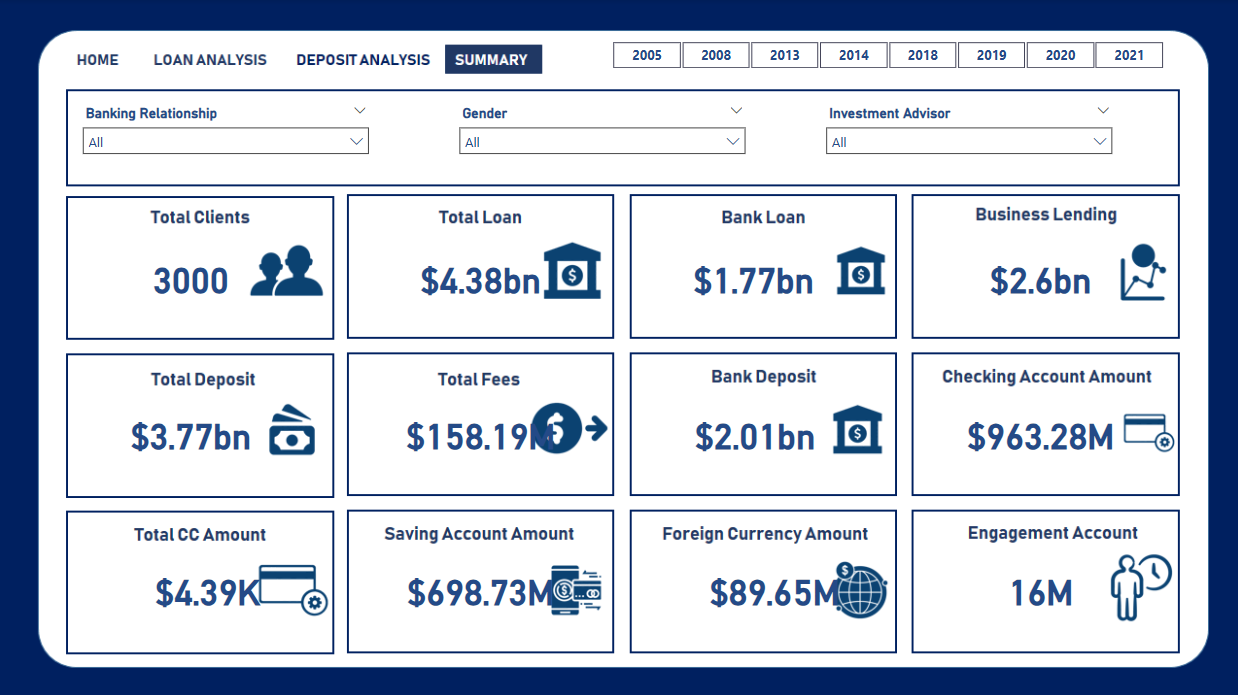

The dashboard page shown, as its layout file describes it:
{"tool":"powerbi","page":{"name":"Summary","canvas":[1280,720],"ordinal":3},"visuals":[{"type":"actionButton","box":[65.8,40,72.5,41.7],"z":0},{"type":"actionButton","box":[147.5,40,134.2,41.7],"z":1},{"type":"actionButton","box":[297.1,40.7,155.6,42.4],"z":2},{"type":"card","fields":{"Values":["CountNonNull(banking_analysis customer.Name)"]},"box":[76,229.9,242.3,111.4],"z":6},{"type":"card","fields":{"Values":["banking_analysis customer.Total Loan"]},"box":[374.9,229.9,242.3,111.4],"z":7},{"type":"card","fields":{"Values":["Sum(banking_analysis customer.Bank Loans)"]},"box":[656,229.9,242.3,111.4],"z":8},{"type":"card","fields":{"Values":["Sum(banking_analysis customer.Business Lending)"]},"box":[951.3,229.9,242.3,111.4],"z":9},{"type":"card","fields":{"Values":["banking_analysis customer.Total Deposit"]},"box":[76,392.6,242.3,111.4],"z":10},{"type":"card","fields":{"Values":["banking_analysis customer.Total Fees"]},"box":[374.9,392.6,242.3,111.4],"z":11},{"type":"card","fields":{"Values":["Sum(banking_analysis customer.Bank Deposits)"]},"box":[657.8,392.6,242.3,111.4],"z":12},{"type":"card","fields":{"Values":["Sum(banking_analysis customer.Checking Accounts)"]},"box":[951.3,392.6,242.3,111.4],"z":13},{"type":"card","fields":{"Values":["banking_analysis customer.Total CC Amount"]},"box":[93.7,551.7,242.3,111.4],"z":14},{"type":"card","fields":{"Values":["Sum(banking_analysis customer.Saving Accounts)"]},"box":[374.9,551.7,242.3,111.4],"z":15},{"type":"card","fields":{"Values":["Sum(banking_analysis customer.Foreign Currency Account)"]},"box":[677.3,551.7,242.3,111.4],"z":16},{"type":"card","fields":{"Values":["Sum(banking_analysis customer.Engagment Days)"]},"box":[951.3,551.7,242.3,111.4],"z":17},{"type":"slicer","fields":{"Values":["banking_analysis customer.Joining Year"]},"box":[606.5,37.1,615.4,33.6],"z":18},{"type":"slicer","title":"Banking Relationship","fields":{"Values":["banking_analysis customer.Banking Relationship"]},"box":[76,104,314,86],"z":19},{"type":"slicer","title":"Banking Relationship","fields":{"Values":["banking_analysis customer.Gender"]},"box":[464,104,314,86],"z":20},{"type":"slicer","title":"Banking Relationship","fields":{"Values":["banking_analysis customer.Investment Advisor"]},"box":[842,104,314,86],"z":21}]}

Visuals, with their boxes in screenshot pixels (x1, y1, x2, y2), scaled from the page's 1280x720 canvas onto the 1238x695 screenshot:
actionButton: 64,39,134,79
actionButton: 143,39,272,79
actionButton: 287,39,438,80
card - CountNonNull(banking_analysis customer.Name): 74,222,308,329
card - banking_analysis customer.Total Loan: 363,222,597,329
card - Sum(banking_analysis customer.Bank Loans): 634,222,869,329
card - Sum(banking_analysis customer.Business Lending): 920,222,1154,329
card - banking_analysis customer.Total Deposit: 74,379,308,486
card - banking_analysis customer.Total Fees: 363,379,597,486
card - Sum(banking_analysis customer.Bank Deposits): 636,379,871,486
card - Sum(banking_analysis customer.Checking Accounts): 920,379,1154,486
card - banking_analysis customer.Total CC Amount: 91,533,325,640
card - Sum(banking_analysis customer.Saving Accounts): 363,533,597,640
card - Sum(banking_analysis customer.Foreign Currency Account): 655,533,889,640
card - Sum(banking_analysis customer.Engagment Days): 920,533,1154,640
slicer - banking_analysis customer.Joining Year: 587,36,1182,68
"Banking Relationship" slicer: 74,100,377,183
"Banking Relationship" slicer: 449,100,752,183
"Banking Relationship" slicer: 814,100,1118,183
